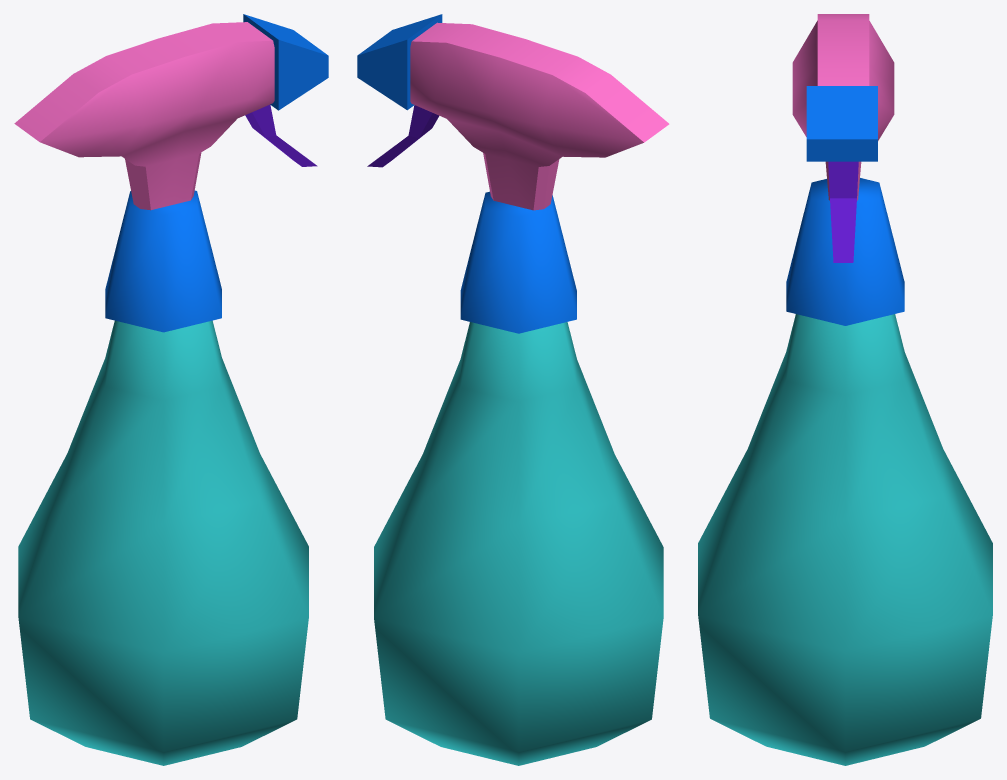
Rendered from Spray_Bottle_E.FBX.
3 renders of one model, left to right at view 1: azimuth 30°, elevation 25°; view 2: azimuth 150°, elevation 25°; view 3: azimuth 270°, elevation 25°, orthographic.
Parts seen in each view (by area): view 1: Spray_Bottle; view 2: Spray_Bottle; view 3: Spray_Bottle.
Boxes of the visible parts, x1,y1,x2,y2 form: Spray_Bottle: (14, 14, 328, 765); Spray_Bottle: (357, 14, 669, 765); Spray_Bottle: (698, 14, 992, 765).
Bounding box in the file's own units: 43.95 × 97.44 × 37.68.
